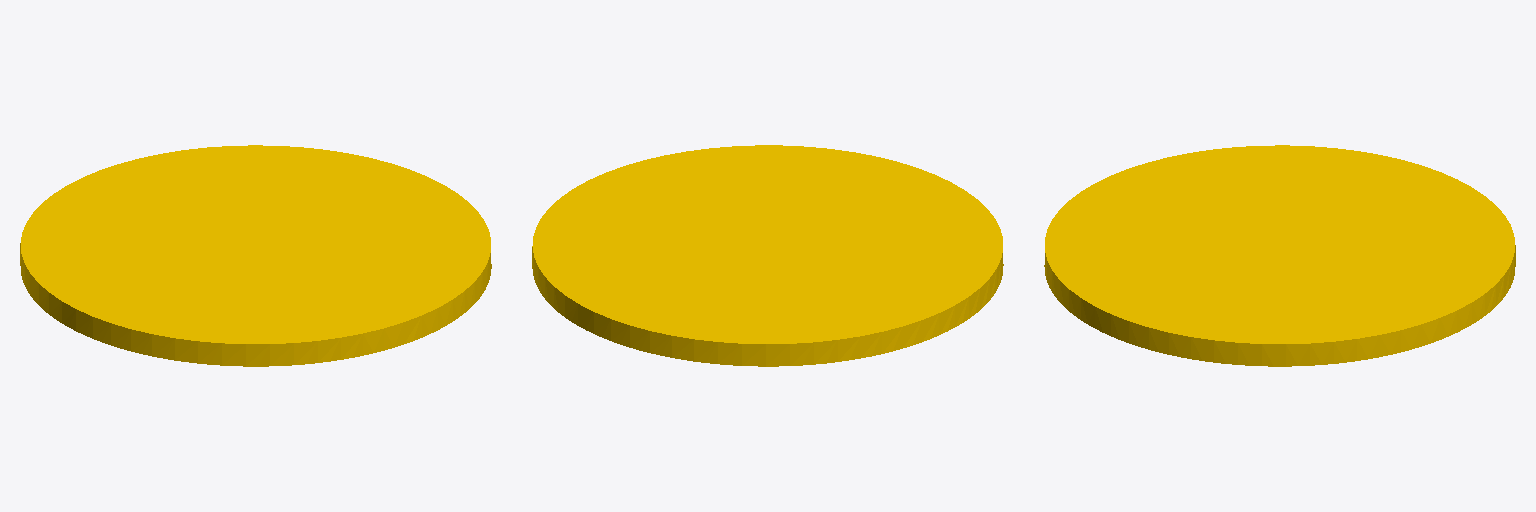
The robot description file, URDF, robot "pancake.urdf":
<?xml version="0.0" ?>
<robot name="pancake.urdf">
  <link name="base" />
  <link name="pancake">
    <visual>
      <origin rpy="0 0 0" xyz="0 0 0"/>
      <geometry>
        <mesh filename="pie2.obj" scale="0.8 0.8 1."/>
        <!-- <mesh filename="pie3_v.obj" scale="1 1 2"/> -->
<!--        <mesh filename="pancake_v.obj" scale="0.001 0.001 0.0015"/>-->
<!--        <mesh filename="pie6_v.obj" scale="1 1 1"/>-->
      </geometry>
      <material name="pancake_yellow">
        <color rgba="1 0.816 0. 1.0"/>
      </material>
    </visual>
    <inertial>
      <origin rpy="0 0 0" xyz="0 0 0"/>
      <mass value="0.001"/>
<!--      <inertia ixx="0.000045" ixy="0" ixz="0" iyy="0.000045" iyz="0" izz="0.00009"/>-->
      <inertia ixx="0.0009" ixy="0" ixz="0" iyy="0.0009" iyz="0" izz="0.0018"/>
    </inertial>
    <collision>
      <origin rpy="0 0 0" xyz="0 0 0"/>
      <geometry>
  	    <mesh filename="pie2.obj" scale="0.8 0.8 1."/>  	   
         <!-- <mesh filename="pie3_v.obj" scale="1 1 2"/> -->
<!--  	    <mesh filename="pancake_v.obj" scale="0.001 0.001 0.0015"/>-->
<!--  	    <mesh filename="pie6_v.obj" scale="1 1 1"/>-->
      </geometry>
    </collision>
  </link>
      <joint name="pancake_joint" type="fixed">
        <origin xyz="0 0 0" rpy="0 0 0" />
        <parent link="base" />
        <child link="pancake" />
        <!-- <axis xyz="0 0 1"/>
        <limit effort="20" lower="0.0" upper="0.04" velocity="0.2"/> -->
    </joint>
</robot>

--- Facts derived from the render (not from the file) ---
Views: 3 orthographic renders of the robot side by side, from view 1: azimuth 30°, elevation 25°; view 2: azimuth 150°, elevation 25°; view 3: azimuth 270°, elevation 25°.
Model pancake.urdf with 2 links and 1 joints (1 fixed), rooted at base, posed every joint at zero.
Links seen in each view (by area): view 1: pancake; view 2: pancake; view 3: pancake.
Link boxes in pixels (x1,y1,x2,y2): pancake: [20, 145, 491, 366]; pancake: [532, 145, 1003, 366]; pancake: [1044, 145, 1515, 366].
Bounding box of the posed robot: 0.096 × 0.096 × 0.01 m (x, y, z).
1 mesh visuals loaded from 1 distinct referenced files (1 OBJ).
